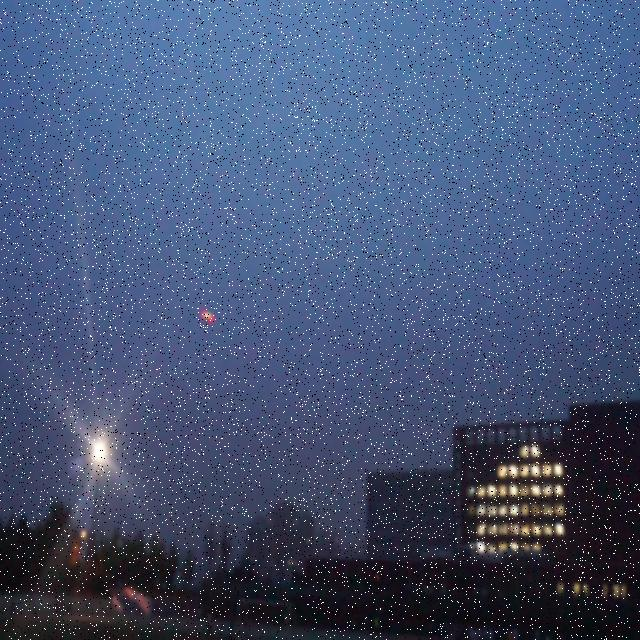UAV: (201, 310, 215, 323)
